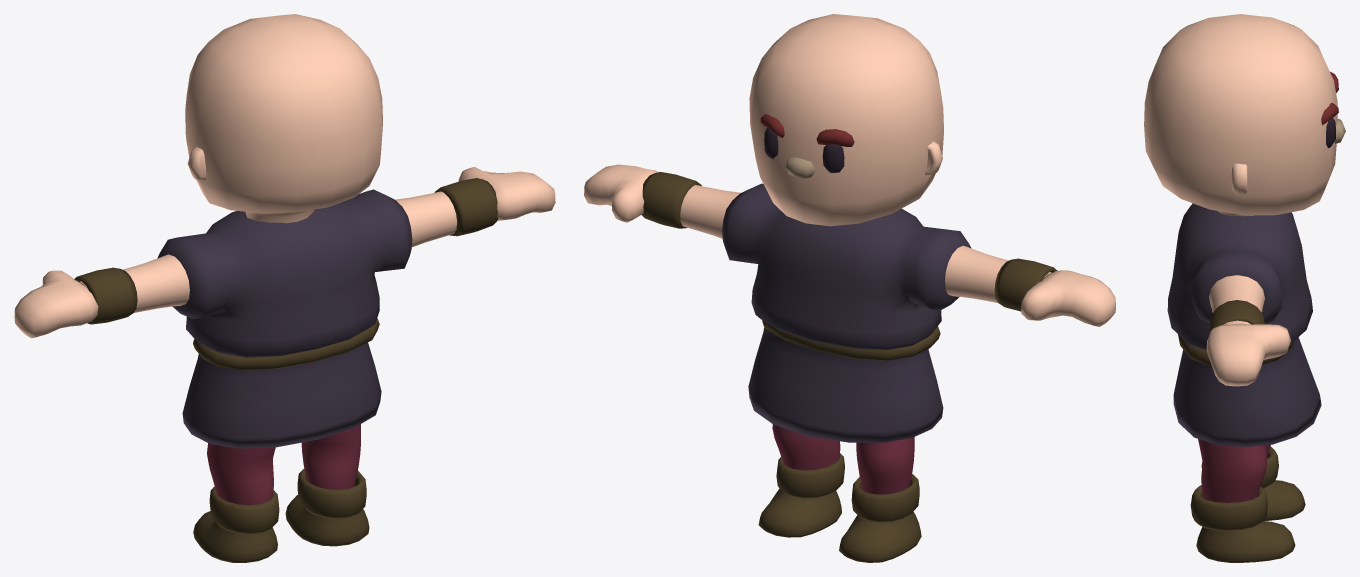
Rendered from man_02.fbx.
3 renders of one model, left to right at view 1: azimuth 30°, elevation 25°; view 2: azimuth 150°, elevation 25°; view 3: azimuth 270°, elevation 25°, orthographic. The views are drawn at different scales.
Parts seen in each view (by area): view 1: Cube.018; view 2: Cube.018; view 3: Cube.018.
Part boxes in pixels (x1,y1,x2,y2): Cube.018: (14,14,555,562); Cube.018: (584,14,1115,562); Cube.018: (1144,14,1345,562).
Size of the model in its own units: 476 by 440 by 160.
